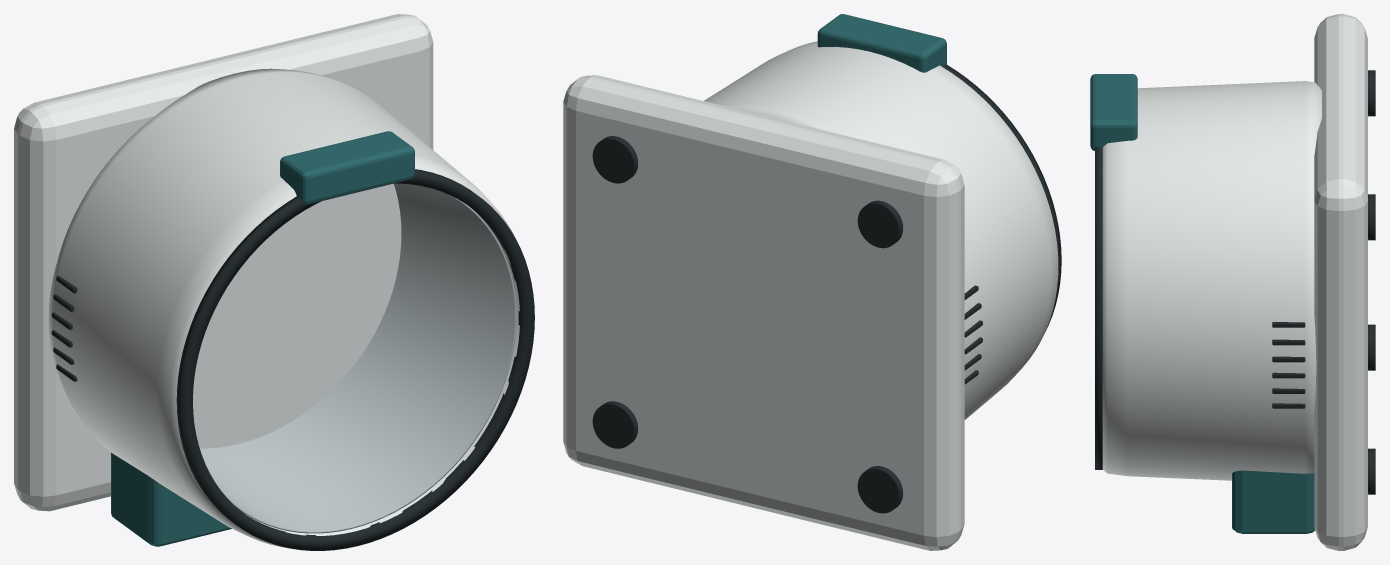
File: centrifuge_base.glb
3 renders of one model, left to right at view 1: azimuth 30°, elevation 25°; view 2: azimuth 150°, elevation 25°; view 3: azimuth 270°, elevation 25°, orthographic. The views are drawn at different scales.
Visible parts, largest first — view 1: Centrifuge enamel chassis, Centrifuge chamber shell, Centrifuge stainless bowl, Centrifuge rim seal, Centrifuge hinge pedestal, Centrifuge control bezel; view 2: Centrifuge enamel chassis, Centrifuge chamber shell, Centrifuge hinge pedestal, Centrifuge isolation foot.002, Centrifuge isolation foot, Centrifuge isolation foot.003, Centrifuge isolation foot.001, Centrifuge rim seal; view 3: Centrifuge chamber shell, Centrifuge enamel chassis, Centrifuge control bezel, Centrifuge hinge pedestal, Centrifuge rim seal, Centrifuge isolation foot.001, Centrifuge isolation foot.002, Centrifuge isolation foot.003, Centrifuge isolation foot.
Boxes of the visible parts, x1=… form: Centrifuge enamel chassis: x1=14, y1=14, x2=433, y2=511; Centrifuge chamber shell: x1=48, y1=68, x2=519, y2=547; Centrifuge stainless bowl: x1=200, y1=183, x2=516, y2=533; Centrifuge rim seal: x1=176, y1=169, x2=534, y2=550; Centrifuge hinge pedestal: x1=280, y1=131, x2=414, y2=204; Centrifuge control bezel: x1=111, y1=452, x2=231, y2=546; Centrifuge enamel chassis: x1=563, y1=75, x2=964, y2=550; Centrifuge chamber shell: x1=704, y1=41, x2=1058, y2=419; Centrifuge hinge pedestal: x1=817, y1=14, x2=946, y2=72; Centrifuge isolation foot.002: x1=857, y1=200, x2=903, y2=248; Centrifuge isolation foot: x1=592, y1=136, x2=638, y2=183; Centrifuge isolation foot.003: x1=592, y1=401, x2=638, y2=448; Centrifuge isolation foot.001: x1=857, y1=466, x2=903, y2=513; Centrifuge rim seal: x1=943, y1=64, x2=1061, y2=331; Centrifuge chamber shell: x1=1102, y1=81, x2=1321, y2=480; Centrifuge enamel chassis: x1=1314, y1=14, x2=1367, y2=550; Centrifuge control bezel: x1=1232, y1=470, x2=1315, y2=533; Centrifuge hinge pedestal: x1=1090, y1=74, x2=1137, y2=150; Centrifuge rim seal: x1=1095, y1=147, x2=1102, y2=469; Centrifuge isolation foot.001: x1=1368, y1=324, x2=1375, y2=370; Centrifuge isolation foot.002: x1=1368, y1=70, x2=1375, y2=116; Centrifuge isolation foot.003: x1=1368, y1=448, x2=1375, y2=494; Centrifuge isolation foot: x1=1368, y1=194, x2=1375, y2=240.
Size of the model in its own units: 0.34 by 0.3315 by 0.2235.
